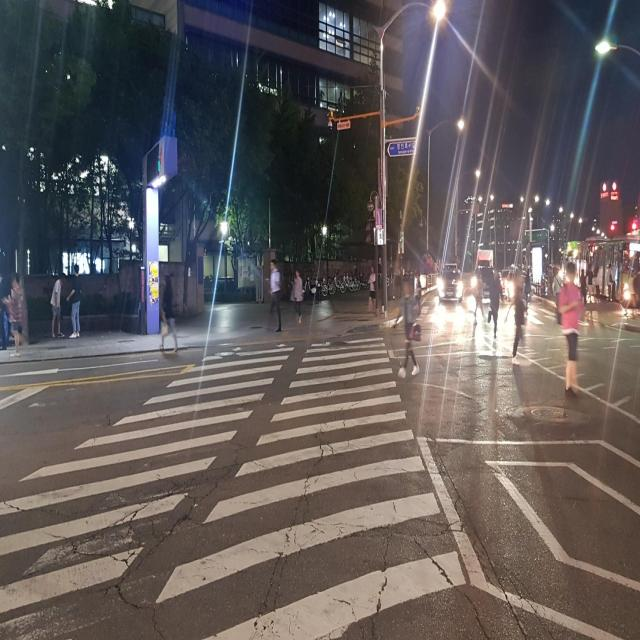횡단보도: (0, 334, 467, 640)
